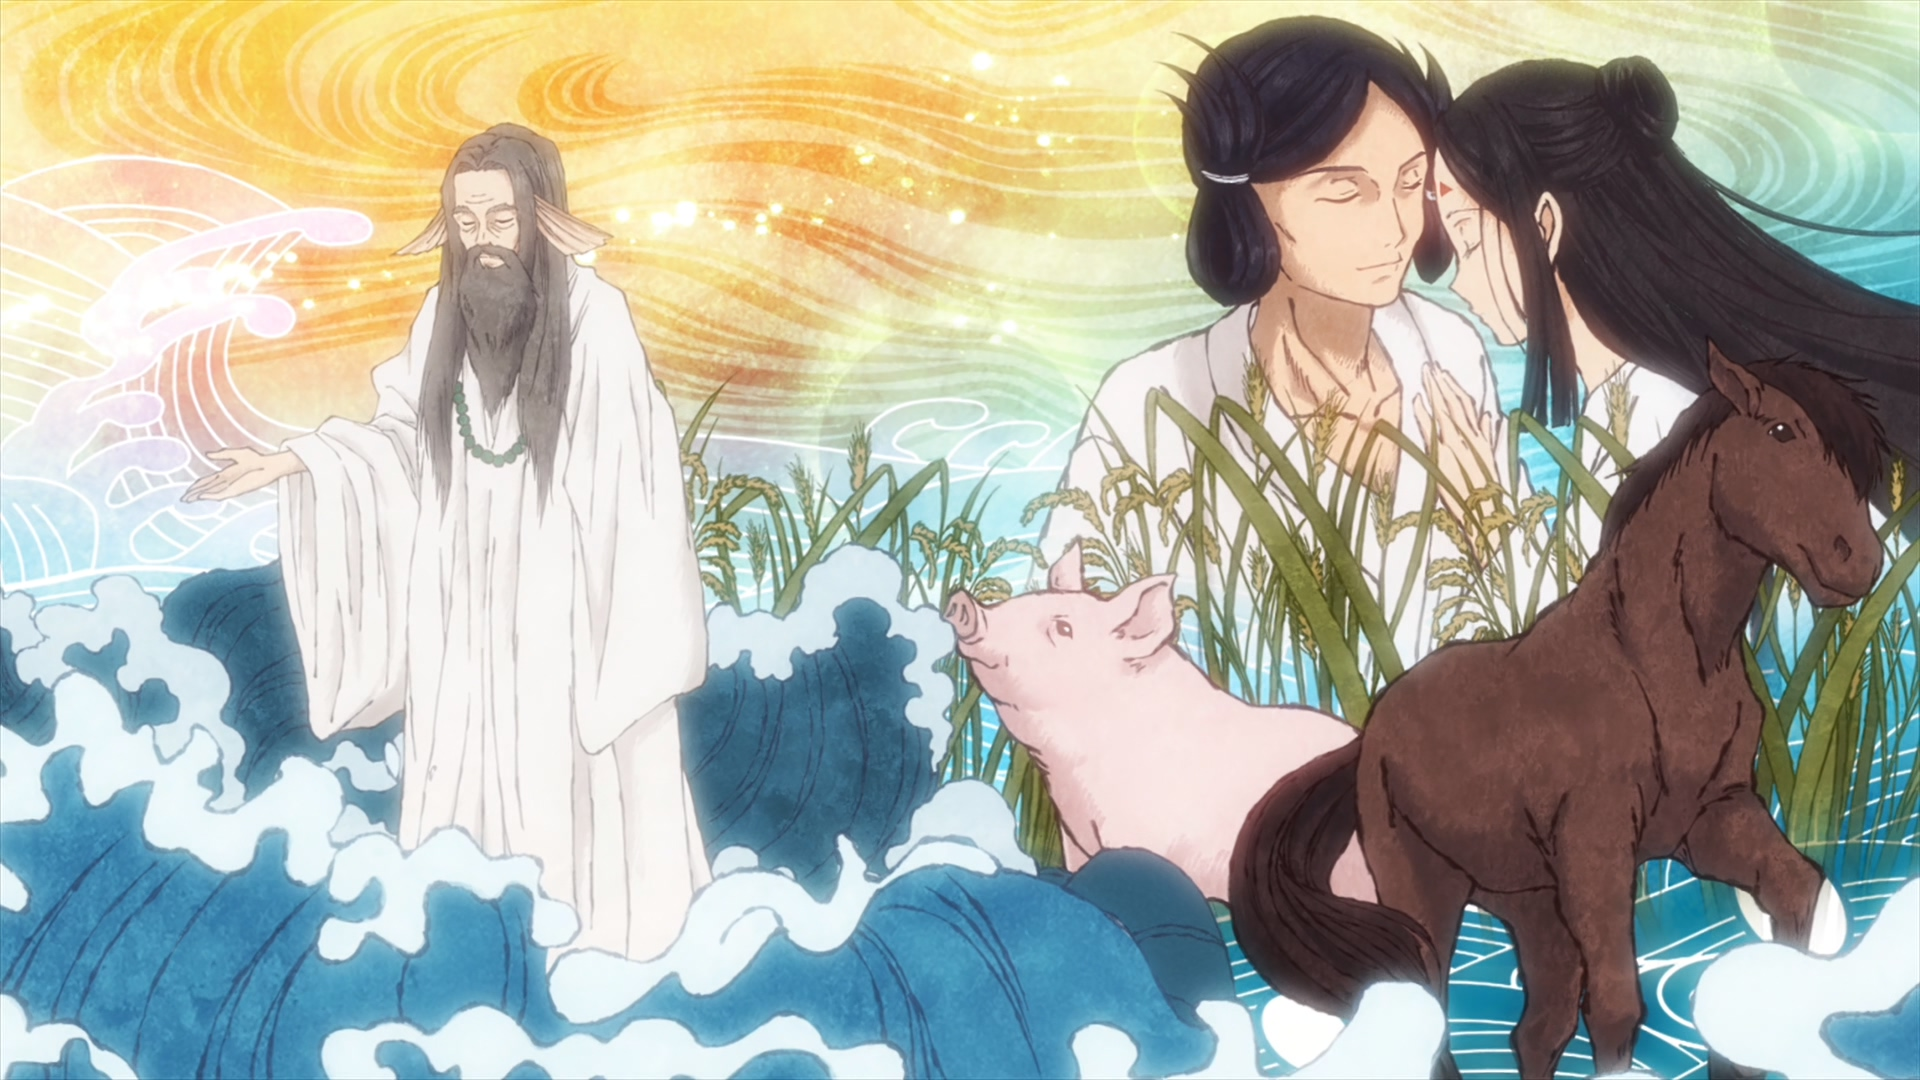其他: (183, 124, 705, 975), (1019, 15, 1556, 708), (1411, 58, 1920, 665)
